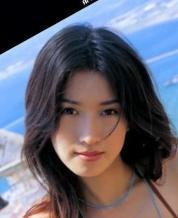face: (60, 99, 117, 162)
